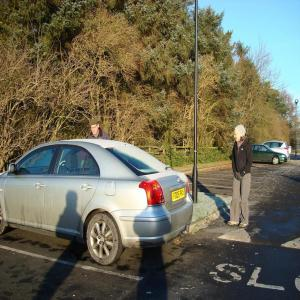Vehicle-registration-plate: (173, 189, 186, 203)
